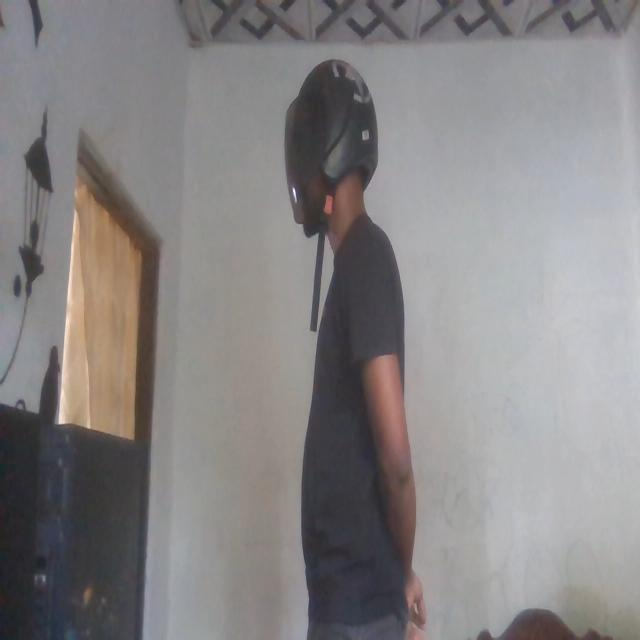Helmet_Wearer: (278, 51, 376, 242)
Person: (274, 49, 432, 640)
